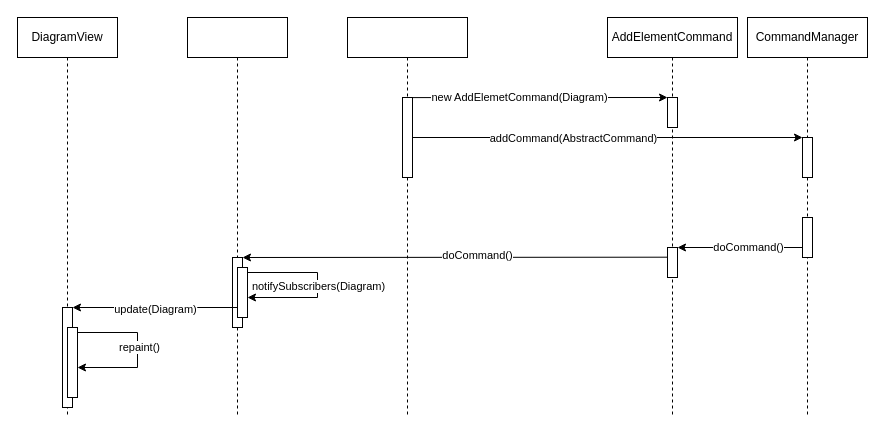
Image size: 885x435. Some labels were removed from this diagram. Here are the shapes that lost their labels. From the top down, the box of each, then its label:
(186, 16, 288, 418): Diagram
(346, 16, 468, 418): AddInterClassState
